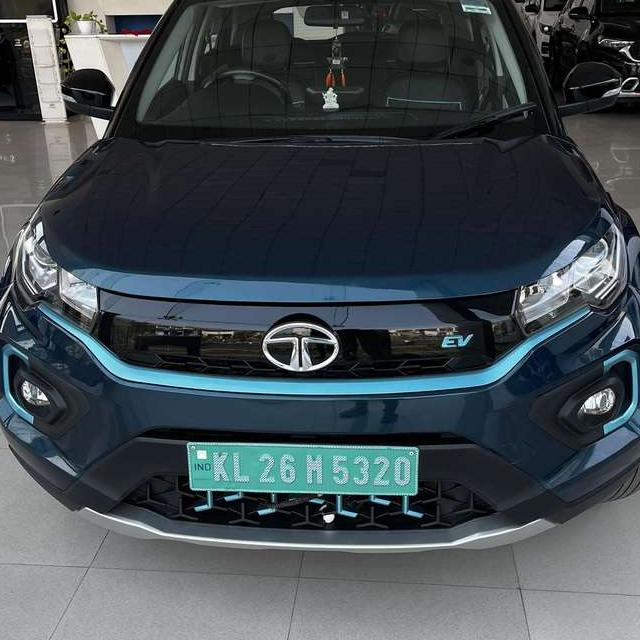Indian_Number_Plate: (189, 444, 419, 494)
